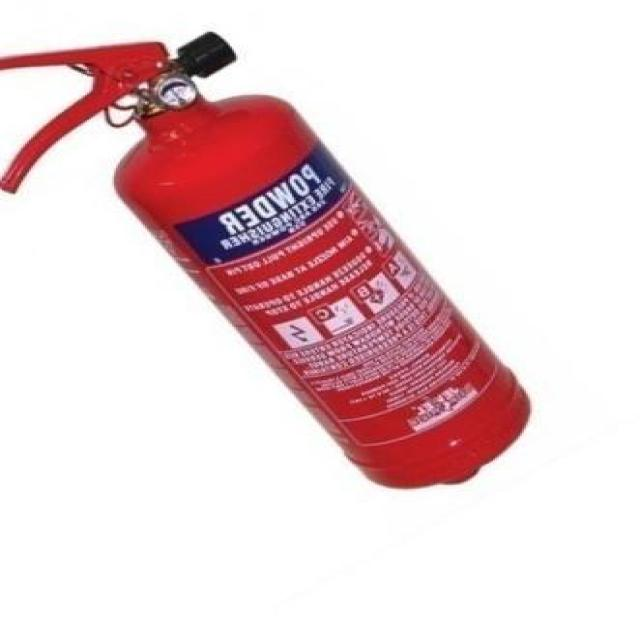fire_extinguisher: (0, 23, 538, 494)
